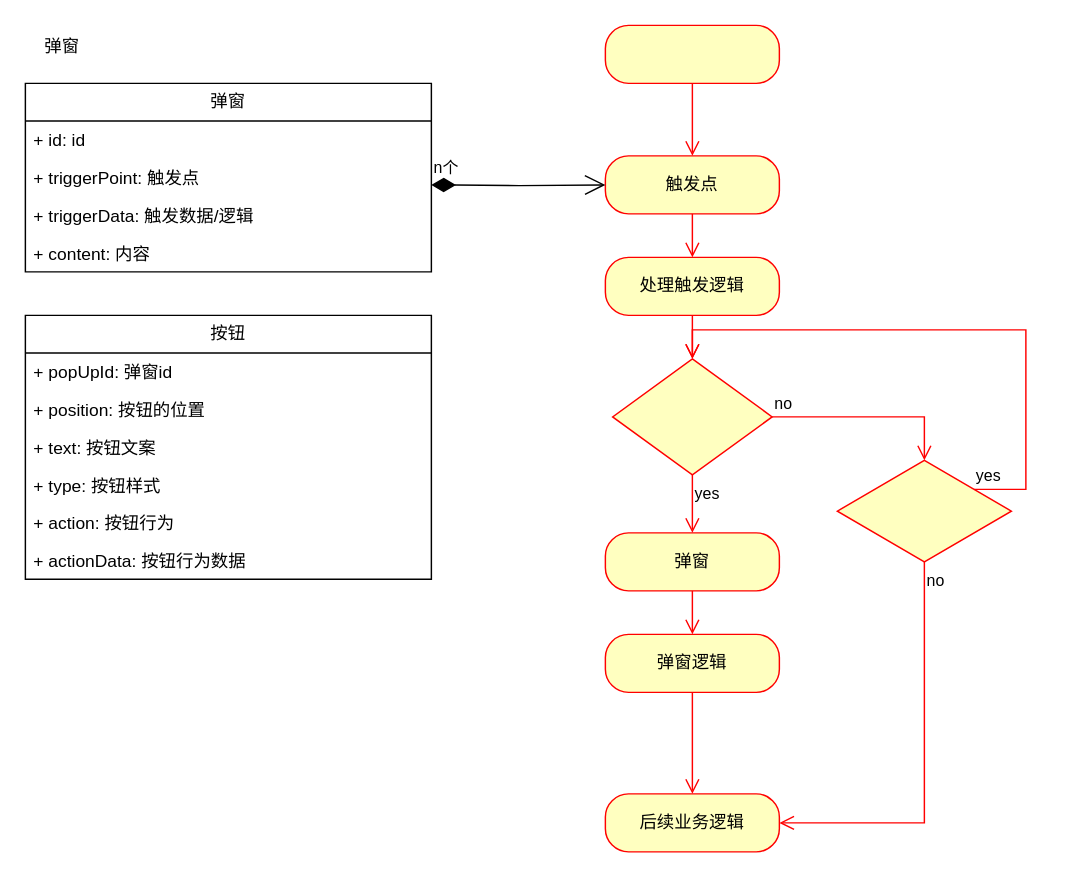
Image size: 1066x877. Some labels were removed from this diagram. Here are the shapes that lost their labels. From the top down, the centre of each, then its label:
the point at 691,53: 场景
the point at 691,416: 是否触发
the point at 923,510: 是否有下一个
